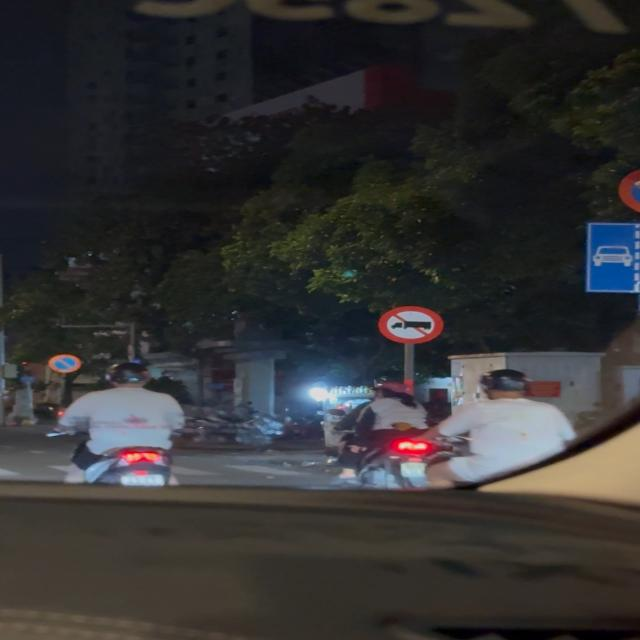Bien bao cam do xe: (48, 353, 84, 373)
Bien bao cam xe so-mi ro-mooc: (375, 304, 451, 347)
